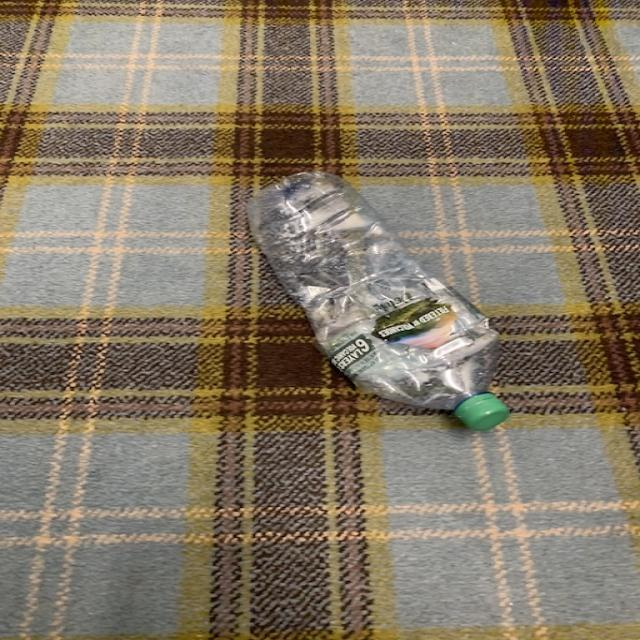Waste: (249, 171, 510, 431)
